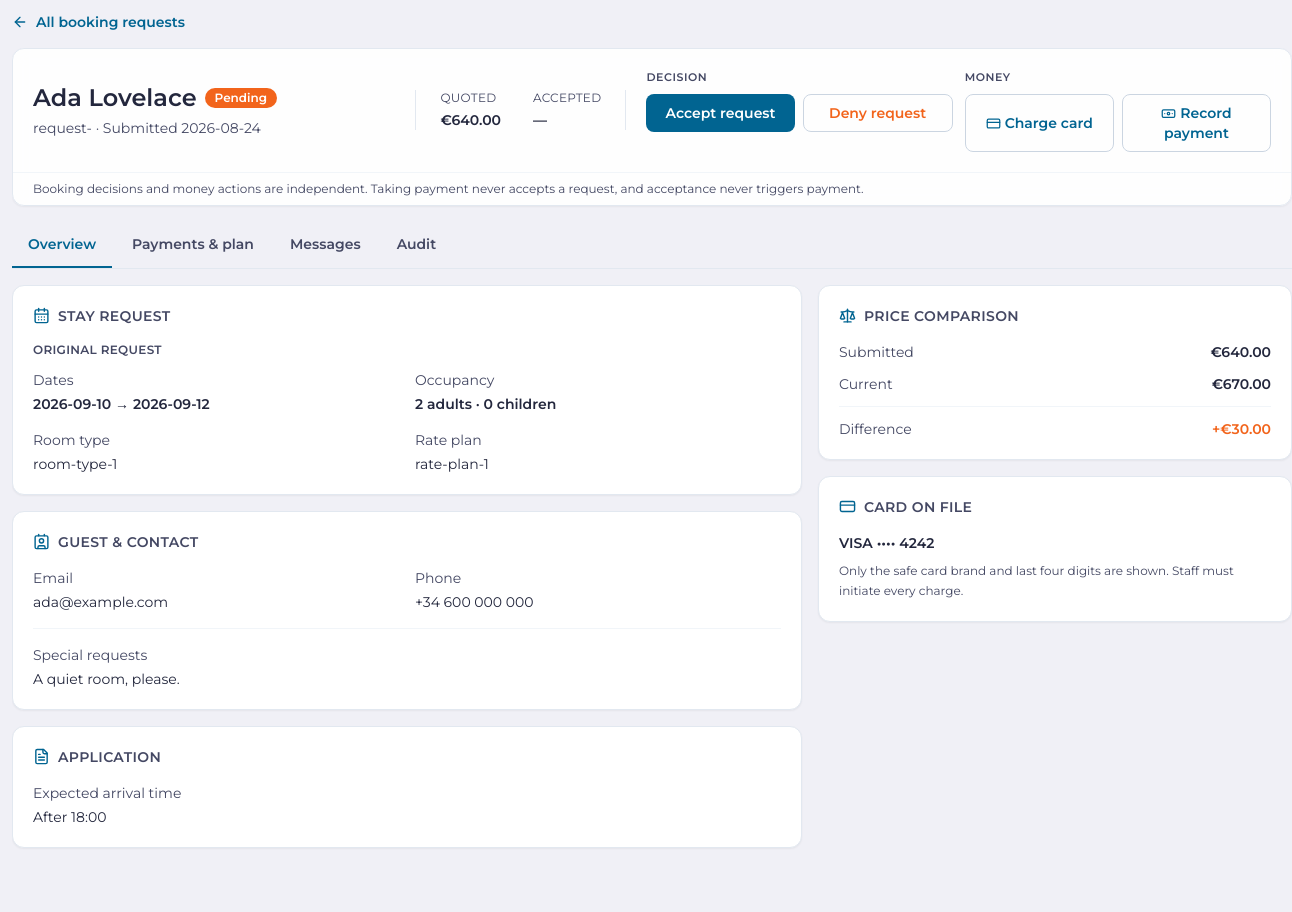
Booking request decisions › keeps legacy refunded parents visible without offering a zero-value resolution
The width and height of the screenshot is (1292, 912).
Click the tab "Payments & plan".
click(193, 244)  # box x1=116 y1=222 x2=270 y2=268
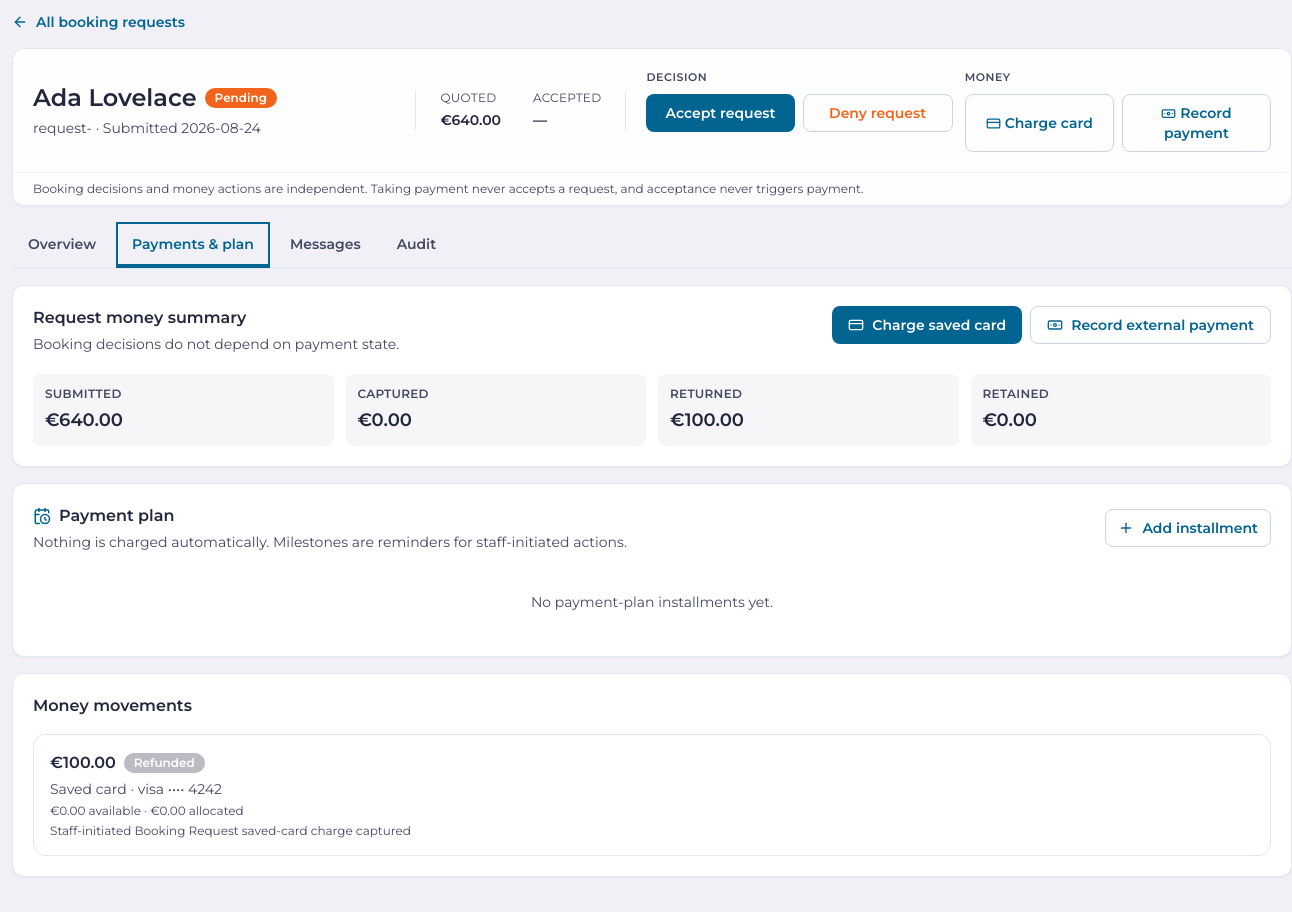
Expected: the text "Request money summary" is shown, x1=33 y1=308 x2=246 y2=326
Expected: the text "€100.00" below "Returned" is shown, x1=670 y1=408 x2=744 y2=430
